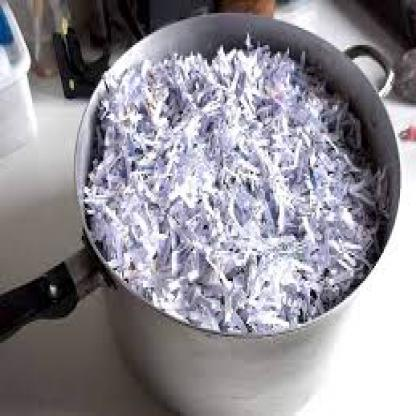4: (84, 30, 387, 330)
Compsot: (63, 8, 402, 414)
